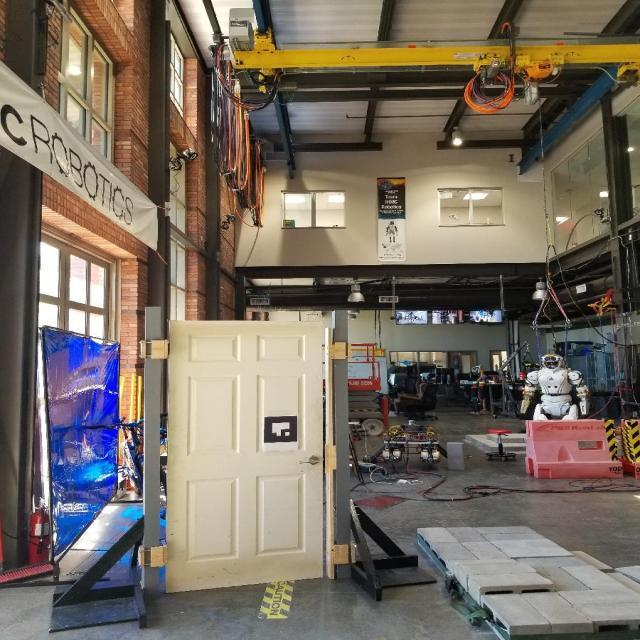door: (164, 316, 328, 594), (299, 454, 323, 469)
